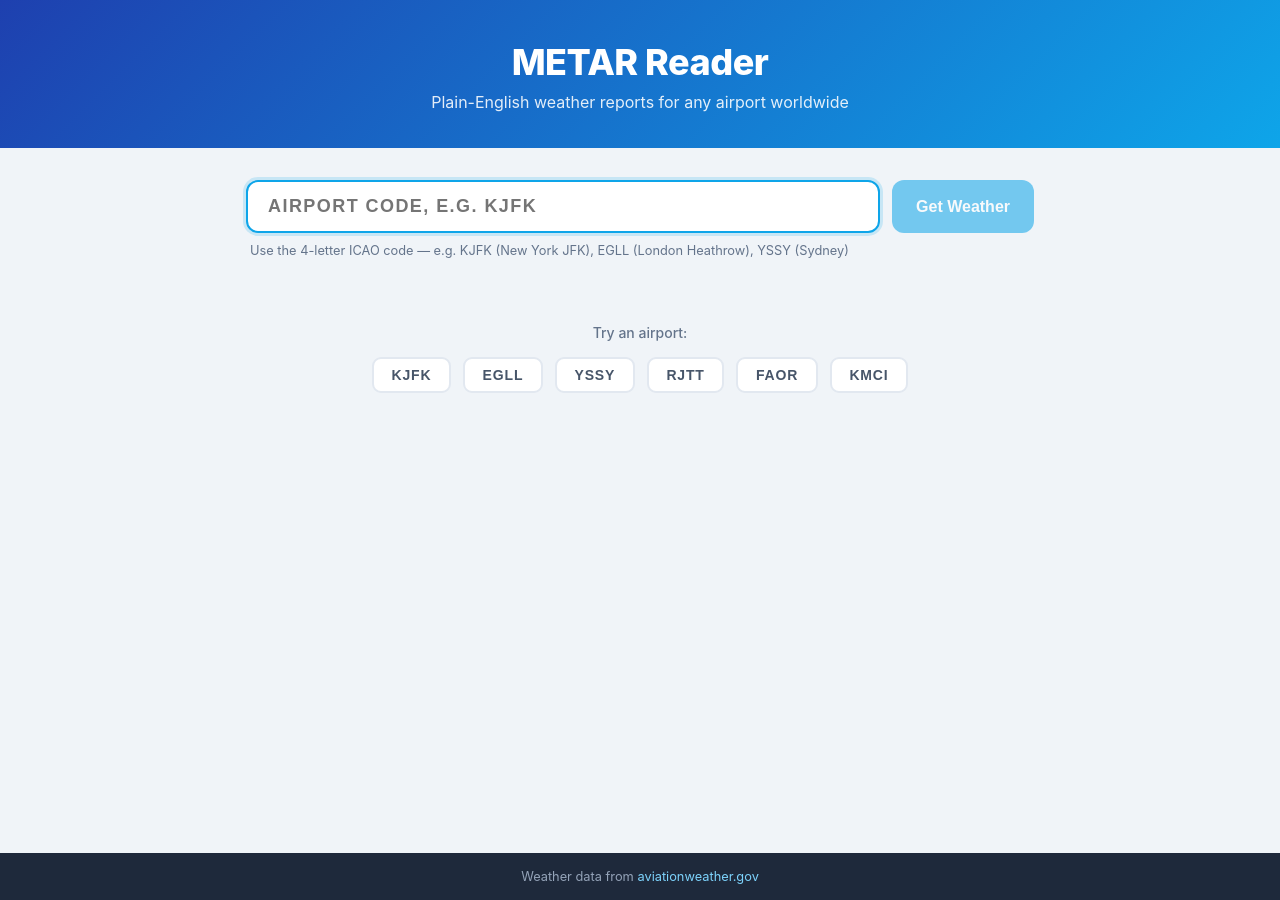
Scenario: App › shows loading state while fetching
The width and height of the screenshot is (1280, 900).
Type "KJFK" into the field with placeholder "Airport code, e.g. KJFK".
click(563, 206); type("KJFK")  # box top-left (246, 180), bottom-right (880, 233)
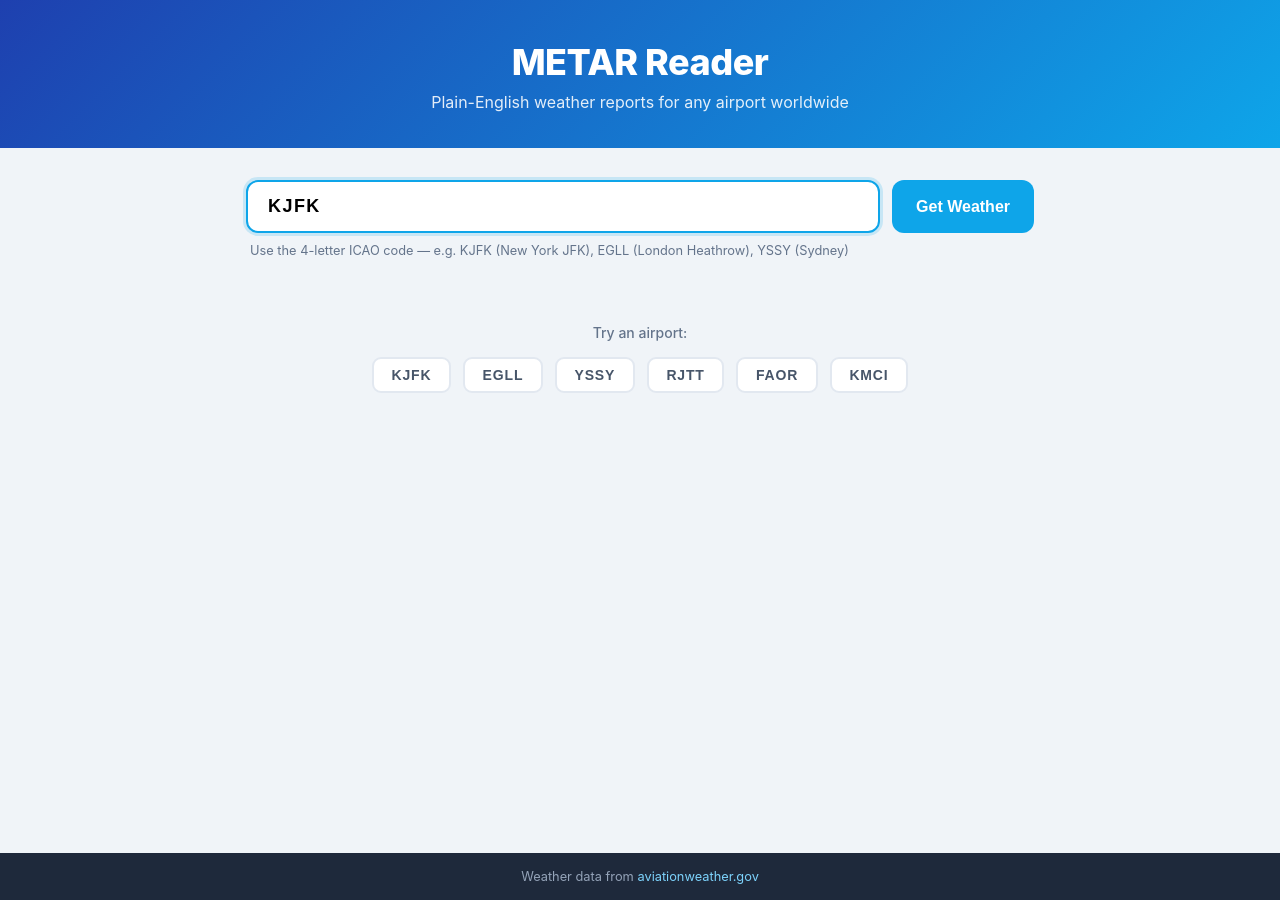
Click the button "Get Weather".
click(963, 206)  # box top-left (892, 180), bottom-right (1034, 233)
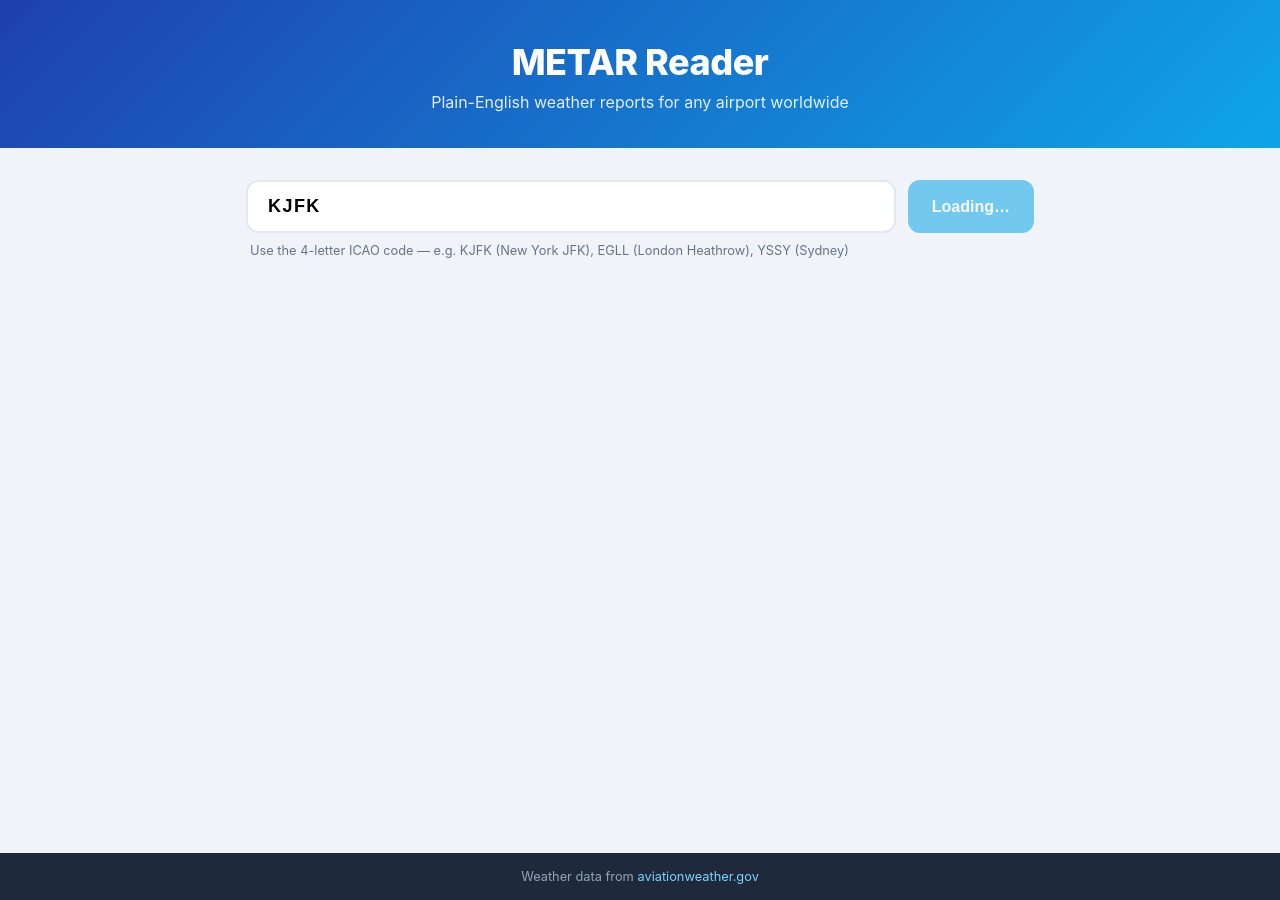
Expected: the button "Loading…" is shown, top-left (908, 180), bottom-right (1034, 233)
